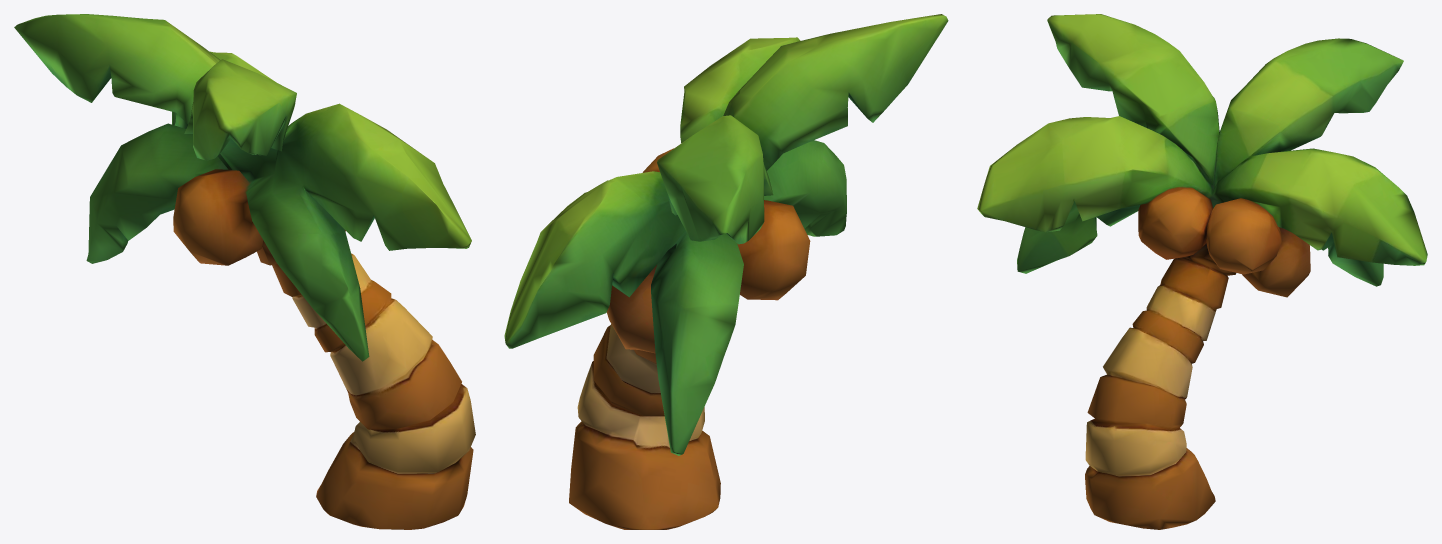
The model's file is tree-palm.glb.
3 renders of one model, left to right at view 1: azimuth 30°, elevation 25°; view 2: azimuth 150°, elevation 25°; view 3: azimuth 270°, elevation 25°, orthographic. The views are drawn at different scales.
Visible parts, largest first — view 1: tripo_node_415cff16-687a-4106-8300-2122f103581d; view 2: tripo_node_415cff16-687a-4106-8300-2122f103581d; view 3: tripo_node_415cff16-687a-4106-8300-2122f103581d.
Boxes of the visible parts, x1=… form: tripo_node_415cff16-687a-4106-8300-2122f103581d: x1=14, y1=14, x2=475, y2=529; tripo_node_415cff16-687a-4106-8300-2122f103581d: x1=504, y1=14, x2=948, y2=529; tripo_node_415cff16-687a-4106-8300-2122f103581d: x1=977, y1=14, x2=1427, y2=529.
Bounding box in the file's own units: 0.633 × 0.9862 × 1.
Materials: 1 (1 with a texture image).
